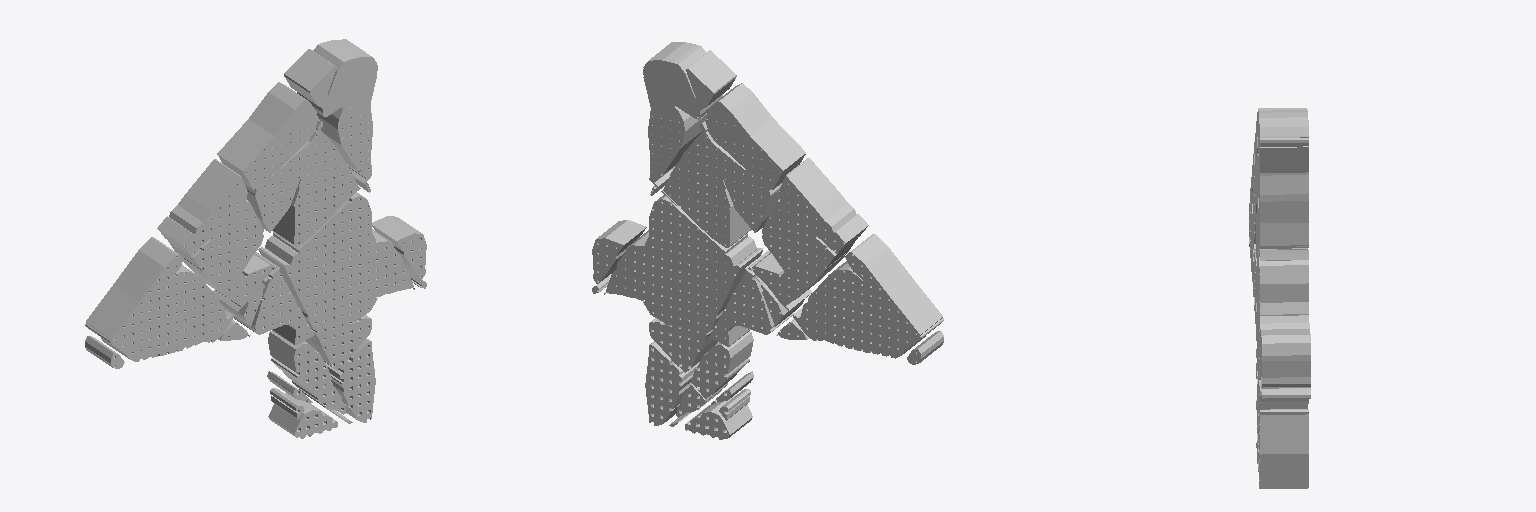
File: 4_naranja.obj
The picture shows the model from 3 angles: view 1: azimuth 30°, elevation 25°; view 2: azimuth 150°, elevation 25°; view 3: azimuth 270°, elevation 25°; orthographic projection.
Parts seen in each view (by area): view 1: Mesh2 G_4_1 Model, Mesh6 G_4_1 Model, Mesh7 G_4_1 Model, Mesh3 G_4_1 Model, Mesh1 G_4_1 Model, Mesh9 G_4_1 Model, Mesh19 G_4_1 Model, Mesh18 G_4_1 Model, Mesh10 G_4_1 Model, Mesh24 G_4_1 Model, Mesh21 G_4_1 Model, Mesh13 G_4_1 Model (+1 smaller); view 2: Mesh6 G_4_1 Model, Mesh2 G_4_1 Model, Mesh7 G_4_1 Model, Mesh3 G_4_1 Model, Mesh1 G_4_1 Model, Mesh9 G_4_1 Model, Mesh19 G_4_1 Model, Mesh18 G_4_1 Model, Mesh10 G_4_1 Model, Mesh24 G_4_1 Model, Mesh21 G_4_1 Model, Mesh13 G_4_1 Model (+1 smaller); view 3: Mesh1 G_4_1 Model, Mesh6 G_4_1 Model, Mesh19 G_4_1 Model, Mesh10 G_4_1 Model, Mesh4 G_4_1 Model.
Boxes of the visible parts, x1,y1,x2,y2 form: Mesh2 G_4_1 Model: [217, 82, 358, 246]; Mesh6 G_4_1 Model: [258, 192, 413, 370]; Mesh7 G_4_1 Model: [85, 237, 233, 361]; Mesh3 G_4_1 Model: [157, 159, 272, 311]; Mesh1 G_4_1 Model: [284, 39, 377, 183]; Mesh9 G_4_1 Model: [234, 252, 313, 345]; Mesh19 G_4_1 Model: [324, 338, 375, 422]; Mesh18 G_4_1 Model: [268, 331, 331, 396]; Mesh10 G_4_1 Model: [372, 216, 426, 278]; Mesh24 G_4_1 Model: [268, 393, 337, 438]; Mesh21 G_4_1 Model: [292, 381, 345, 414]; Mesh13 G_4_1 Model: [85, 336, 124, 368]; Mesh6 G_4_1 Model: [606, 195, 762, 372]; Mesh2 G_4_1 Model: [663, 83, 805, 247]; Mesh7 G_4_1 Model: [793, 234, 943, 358]; Mesh3 G_4_1 Model: [752, 158, 868, 310]; Mesh1 G_4_1 Model: [643, 42, 736, 186]; Mesh9 G_4_1 Model: [710, 251, 793, 346]; Mesh19 G_4_1 Model: [645, 341, 699, 425]; Mesh18 G_4_1 Model: [691, 331, 753, 398]; Mesh10 G_4_1 Model: [592, 220, 646, 283]; Mesh24 G_4_1 Model: [685, 394, 752, 439]; Mesh21 G_4_1 Model: [676, 383, 727, 417]; Mesh13 G_4_1 Model: [907, 331, 943, 364]; Mesh1 G_4_1 Model: [1257, 108, 1308, 248]; Mesh6 G_4_1 Model: [1256, 256, 1310, 413]; Mesh19 G_4_1 Model: [1258, 409, 1308, 488]; Mesh10 G_4_1 Model: [1261, 329, 1310, 387]; Mesh4 G_4_1 Model: [1259, 250, 1308, 260].
Size of the model in its own units: 76.04 by 82.29 by 12.65.